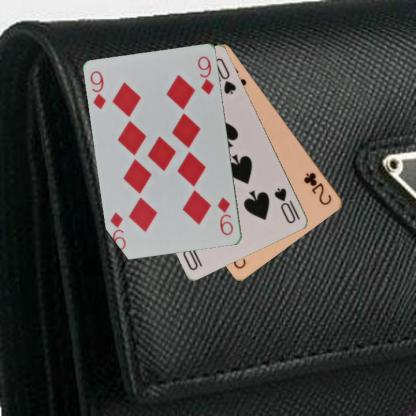10s: (272, 185, 302, 225)
2c: (301, 169, 333, 207)
9d: (215, 195, 235, 237), (88, 68, 107, 111)
